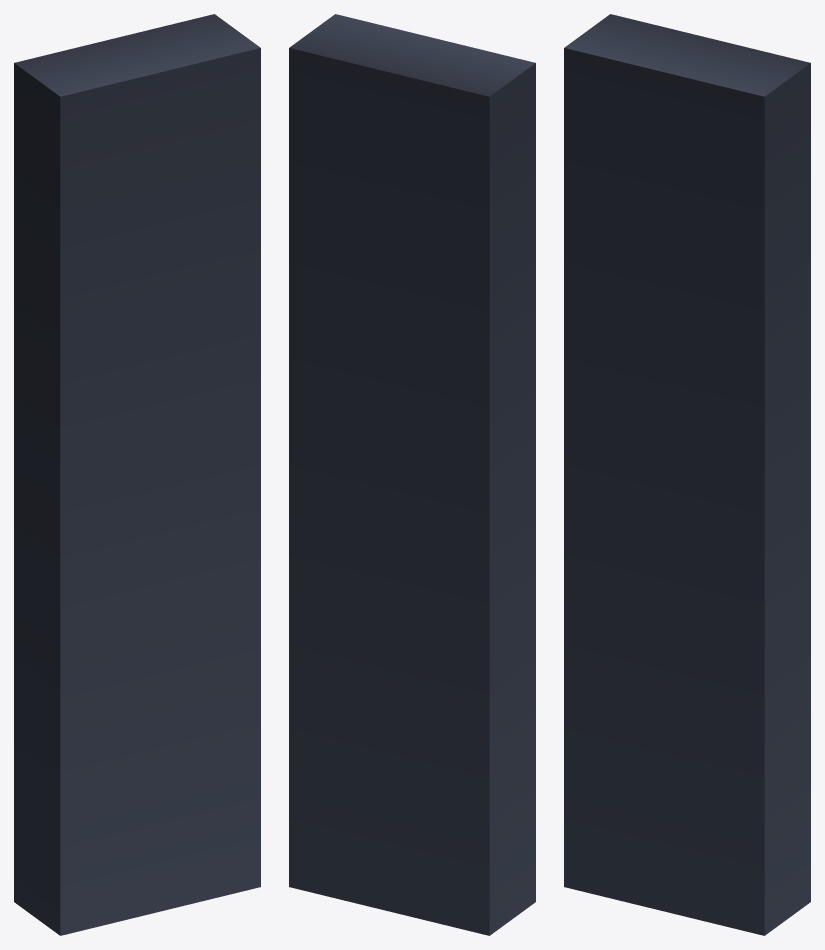
File: KIT_Wall_Straight_1.glb
3 views of the same model, side by side, from view 1: azimuth 30°, elevation 25°; view 2: azimuth 150°, elevation 25°; view 3: azimuth 330°, elevation 25° (orthographic).
Visible parts, largest first — view 1: KIT_Wall_Straight_1; view 2: KIT_Wall_Straight_1; view 3: KIT_Wall_Straight_1.
Part boxes in pixels (bbox=[...]): KIT_Wall_Straight_1: bbox=[14, 14, 260, 935]; KIT_Wall_Straight_1: bbox=[289, 14, 535, 935]; KIT_Wall_Straight_1: bbox=[564, 14, 810, 935].
Size of the model in its own units: 1 by 4 by 0.4.
Materials: 1 (1 with a texture image).
